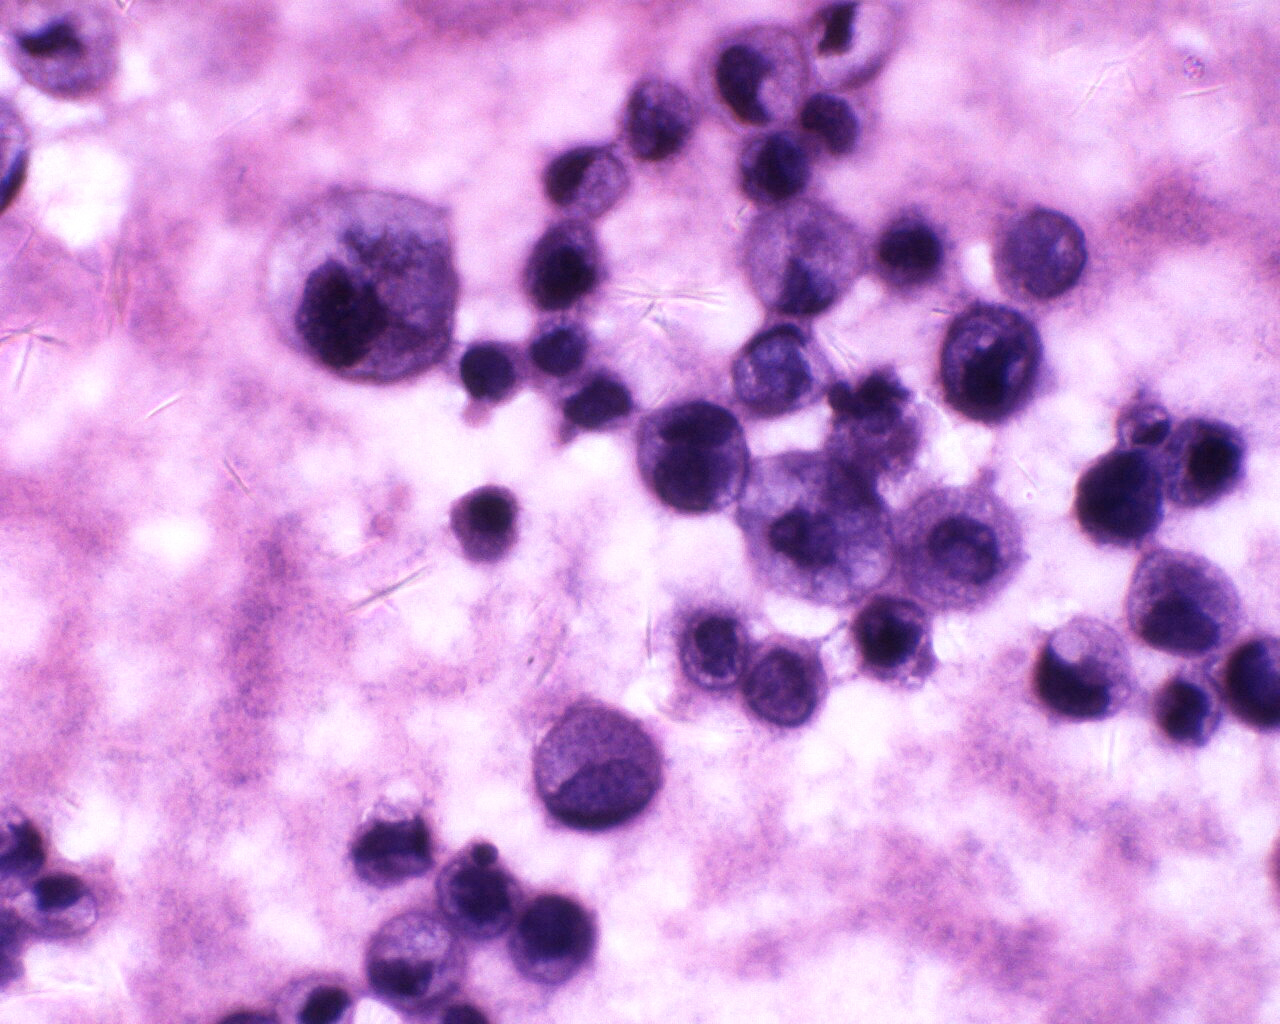ab: (262, 182, 459, 382), (528, 700, 673, 835), (897, 478, 1032, 618), (729, 191, 872, 322), (634, 394, 757, 520), (936, 295, 1047, 430), (1126, 544, 1253, 662), (1024, 609, 1141, 725), (702, 20, 815, 133), (867, 197, 961, 306), (1160, 415, 1254, 520), (507, 887, 604, 988), (1077, 445, 1170, 551), (742, 625, 829, 734), (521, 218, 615, 317), (850, 592, 941, 689), (435, 851, 518, 940), (350, 811, 440, 894), (621, 74, 698, 166), (735, 129, 817, 214), (676, 606, 757, 693), (1149, 665, 1228, 753), (455, 331, 529, 409)
meso: (440, 478, 530, 569)
